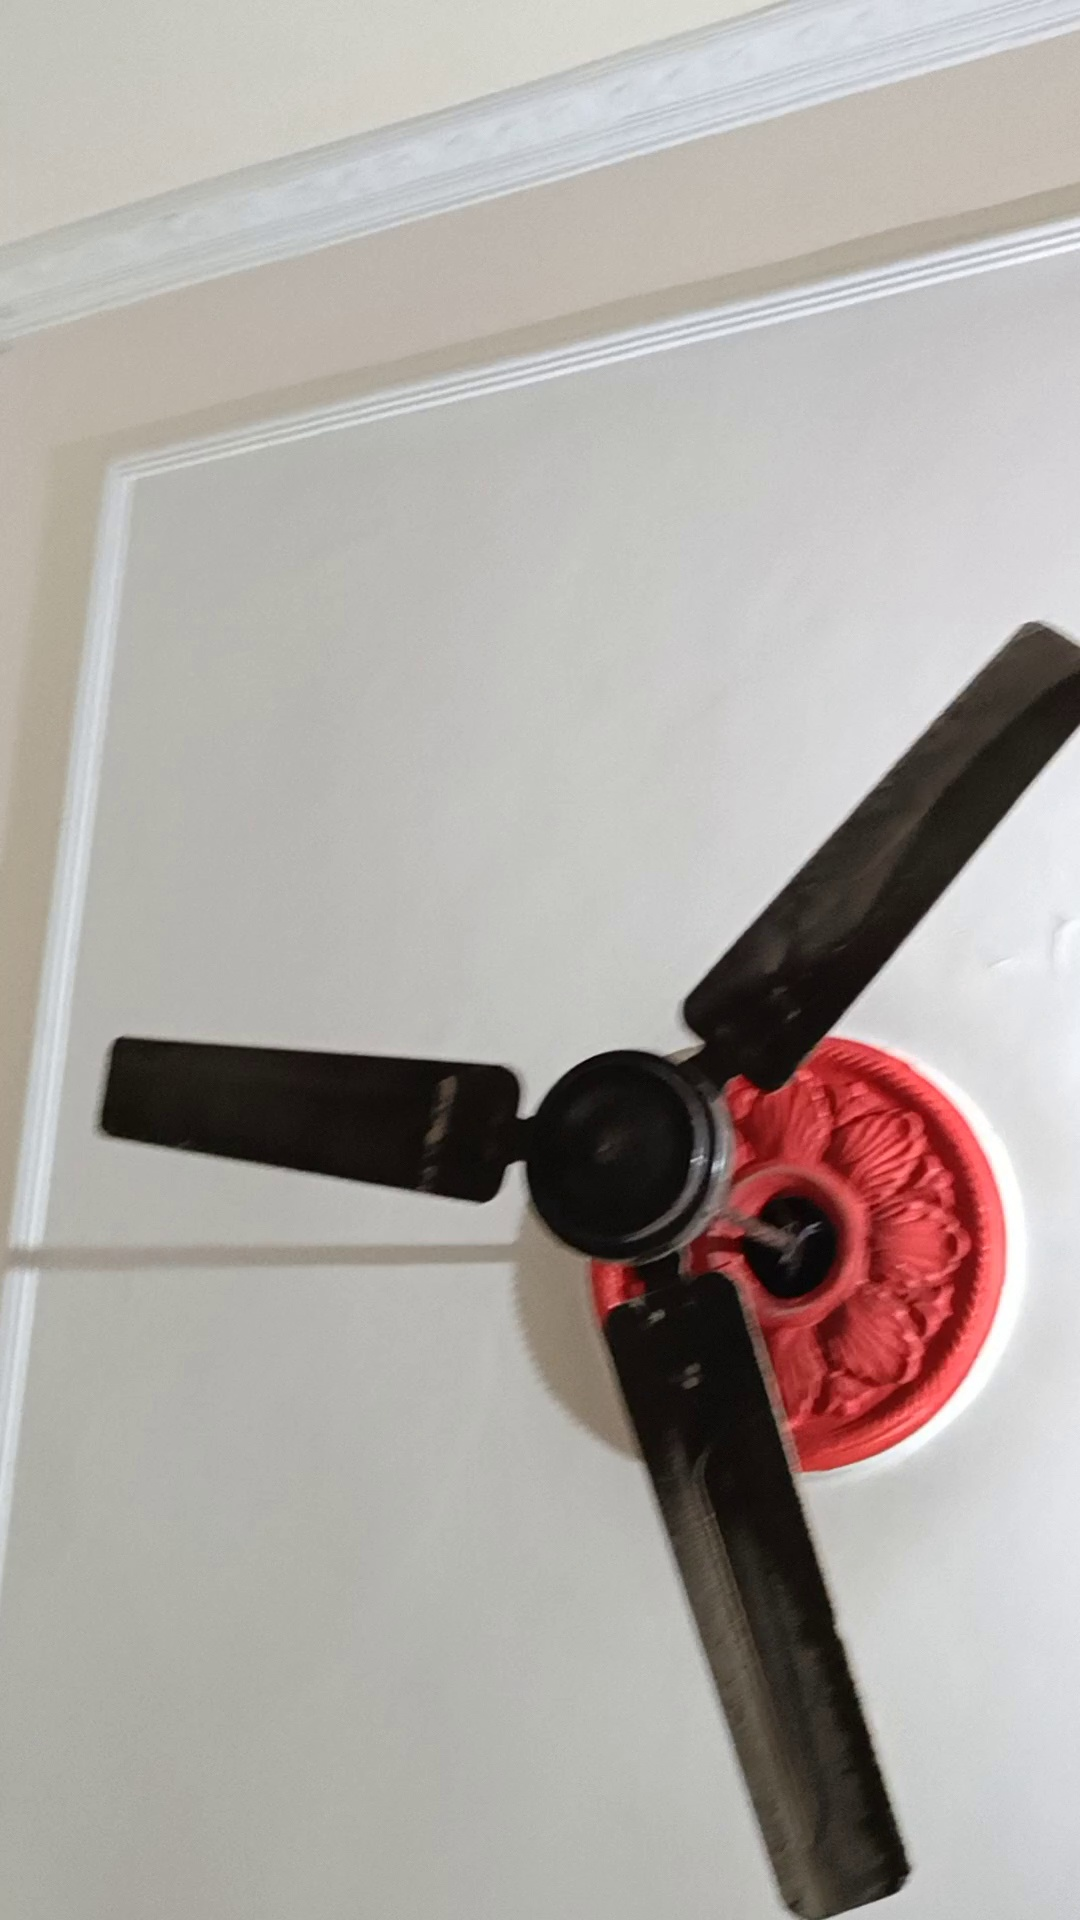fan: (104, 988, 1080, 1920)
